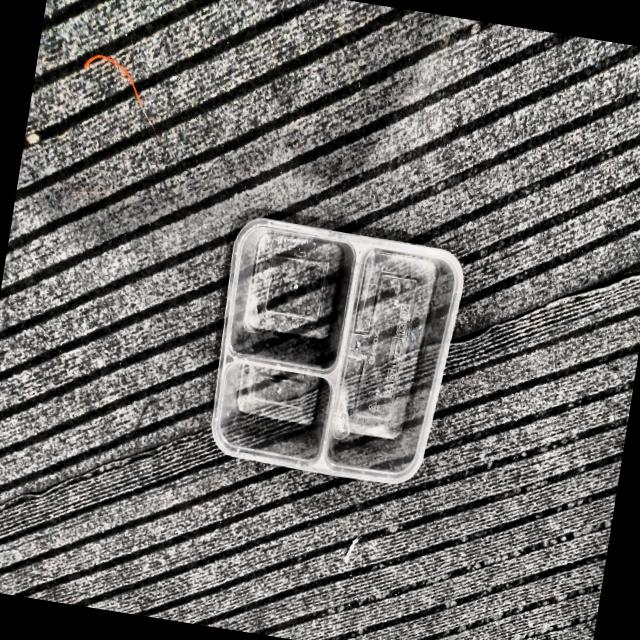plastic container: (212, 218, 463, 484)
